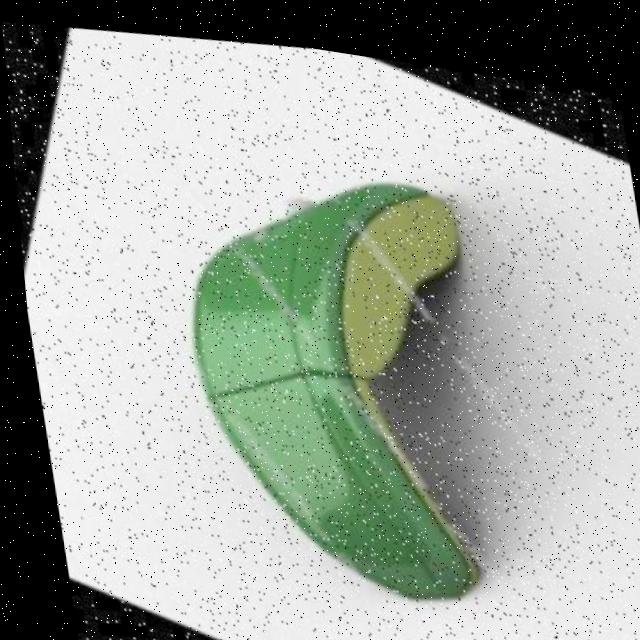mause: (47, 47, 640, 640)
